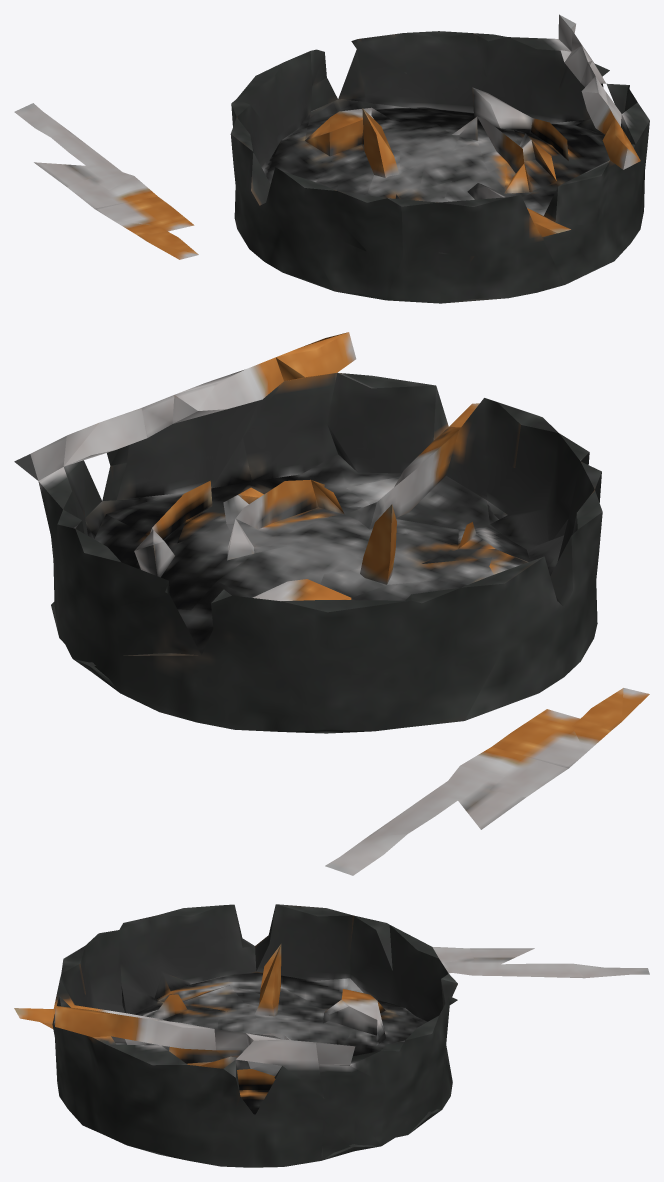
The model's file is mk_ashtray.glb.
3 renders of one model, top to bottom at view 1: azimuth 30°, elevation 25°; view 2: azimuth 150°, elevation 25°; view 3: azimuth 270°, elevation 25°, orthographic. The views are drawn at different scales.
Visible parts, largest first — view 1: mesh; view 2: mesh; view 3: mesh.
Part boxes in pixels (<box>): mesh: <box>14,14,649,303</box>; mesh: <box>14,332,649,875</box>; mesh: <box>14,904,649,1167</box>.
Size of the model in its own units: 0.1824 by 0.048 by 0.2301.
Materials: 1 (1 with a texture image).
